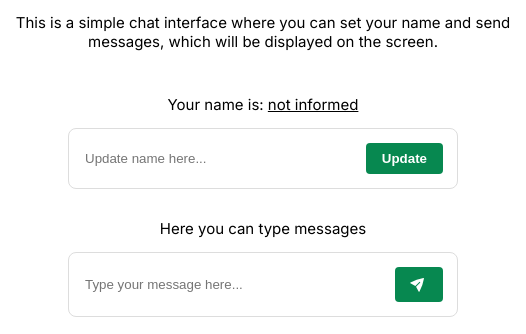
Test: Interactions › typing in name input and hitting the update button updates name
In the field with placeholder "Update name here...": (214, 158) [83,143,346,174], type "Rafael"
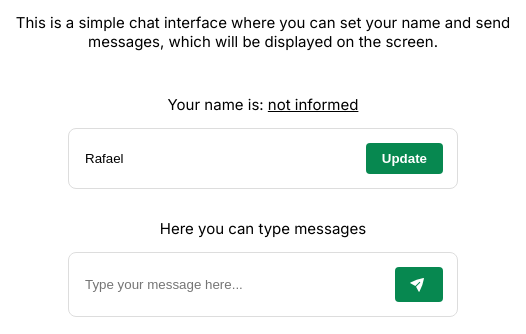
Click the button with test id "updateNameButton": (404, 158) [366,143,443,174]
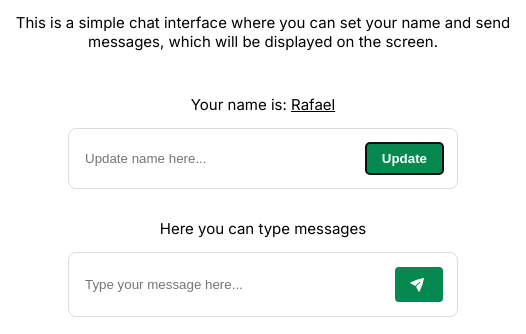
Result: the text "Rafael" is shown at [291,95,335,114]
